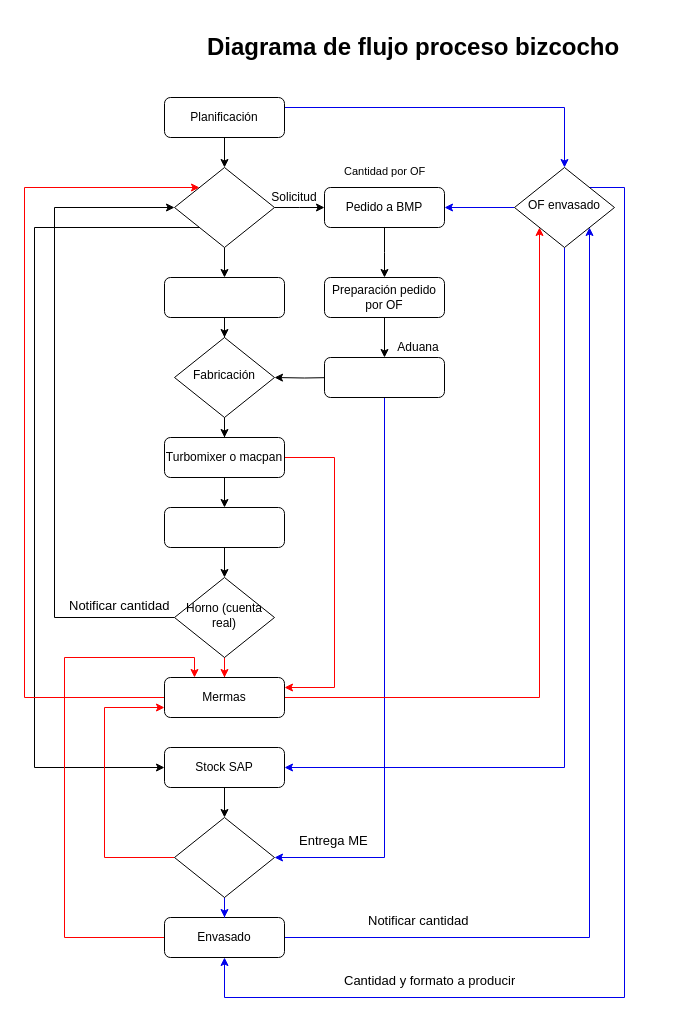
Some shapes in this 679 by 1023 pixel diagram are drawn without their labels. The shapes that lost their labels are listed below. From the top down, each one's centre as x and y in pixels, then its label:
At pixel 224 207: "Orden de Fabricación".
At pixel 224 297: "Cantidad a producir".
At pixel 384 377: "Entrega MP a producción".
At pixel 224 527: "Depositado a moldes".
At pixel 224 857: "Rebanado".
